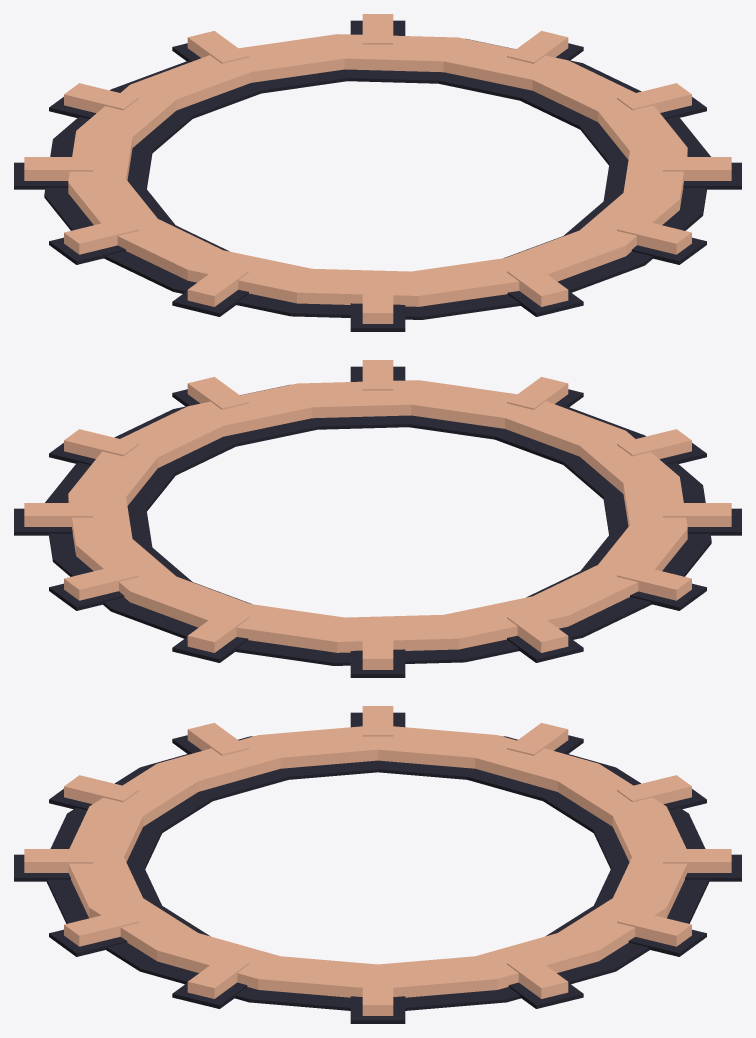
Rendered from fx_wait_ring_old.glb.
3 renders of one model, top to bottom at view 1: azimuth 30°, elevation 25°; view 2: azimuth 150°, elevation 25°; view 3: azimuth 270°, elevation 25°, orthographic.
Visible parts, largest first — view 1: fx_wait_ring_old; view 2: fx_wait_ring_old; view 3: fx_wait_ring_old.
Boxes of the visible parts, x1,y1,x2,y2 form: fx_wait_ring_old: [14, 14, 741, 331]; fx_wait_ring_old: [14, 360, 741, 677]; fx_wait_ring_old: [14, 706, 741, 1023].
Bounding box in the file's own units: 2.12 × 0.05 × 2.12.
